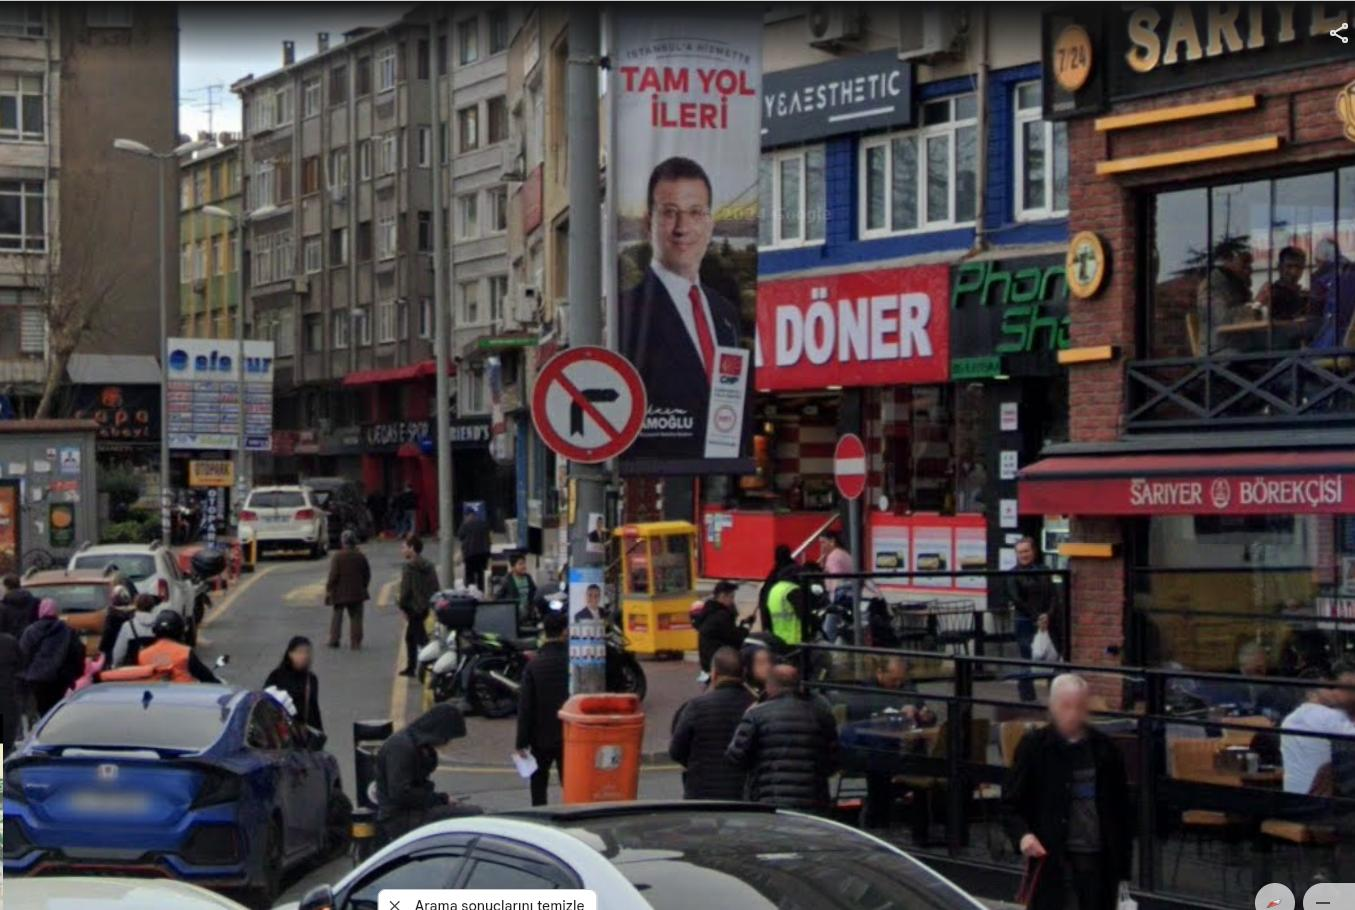rightturnsareforbidden: (527, 340, 649, 466)
